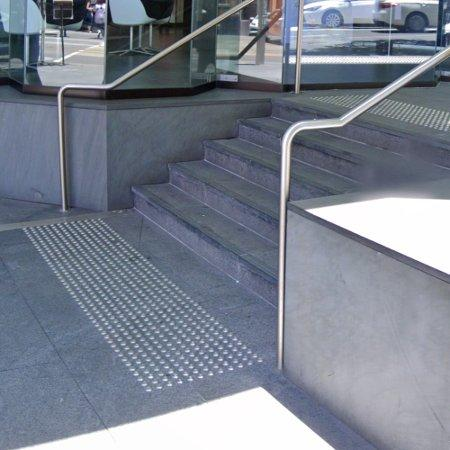stairs: (133, 95, 353, 306), (292, 111, 450, 199)
